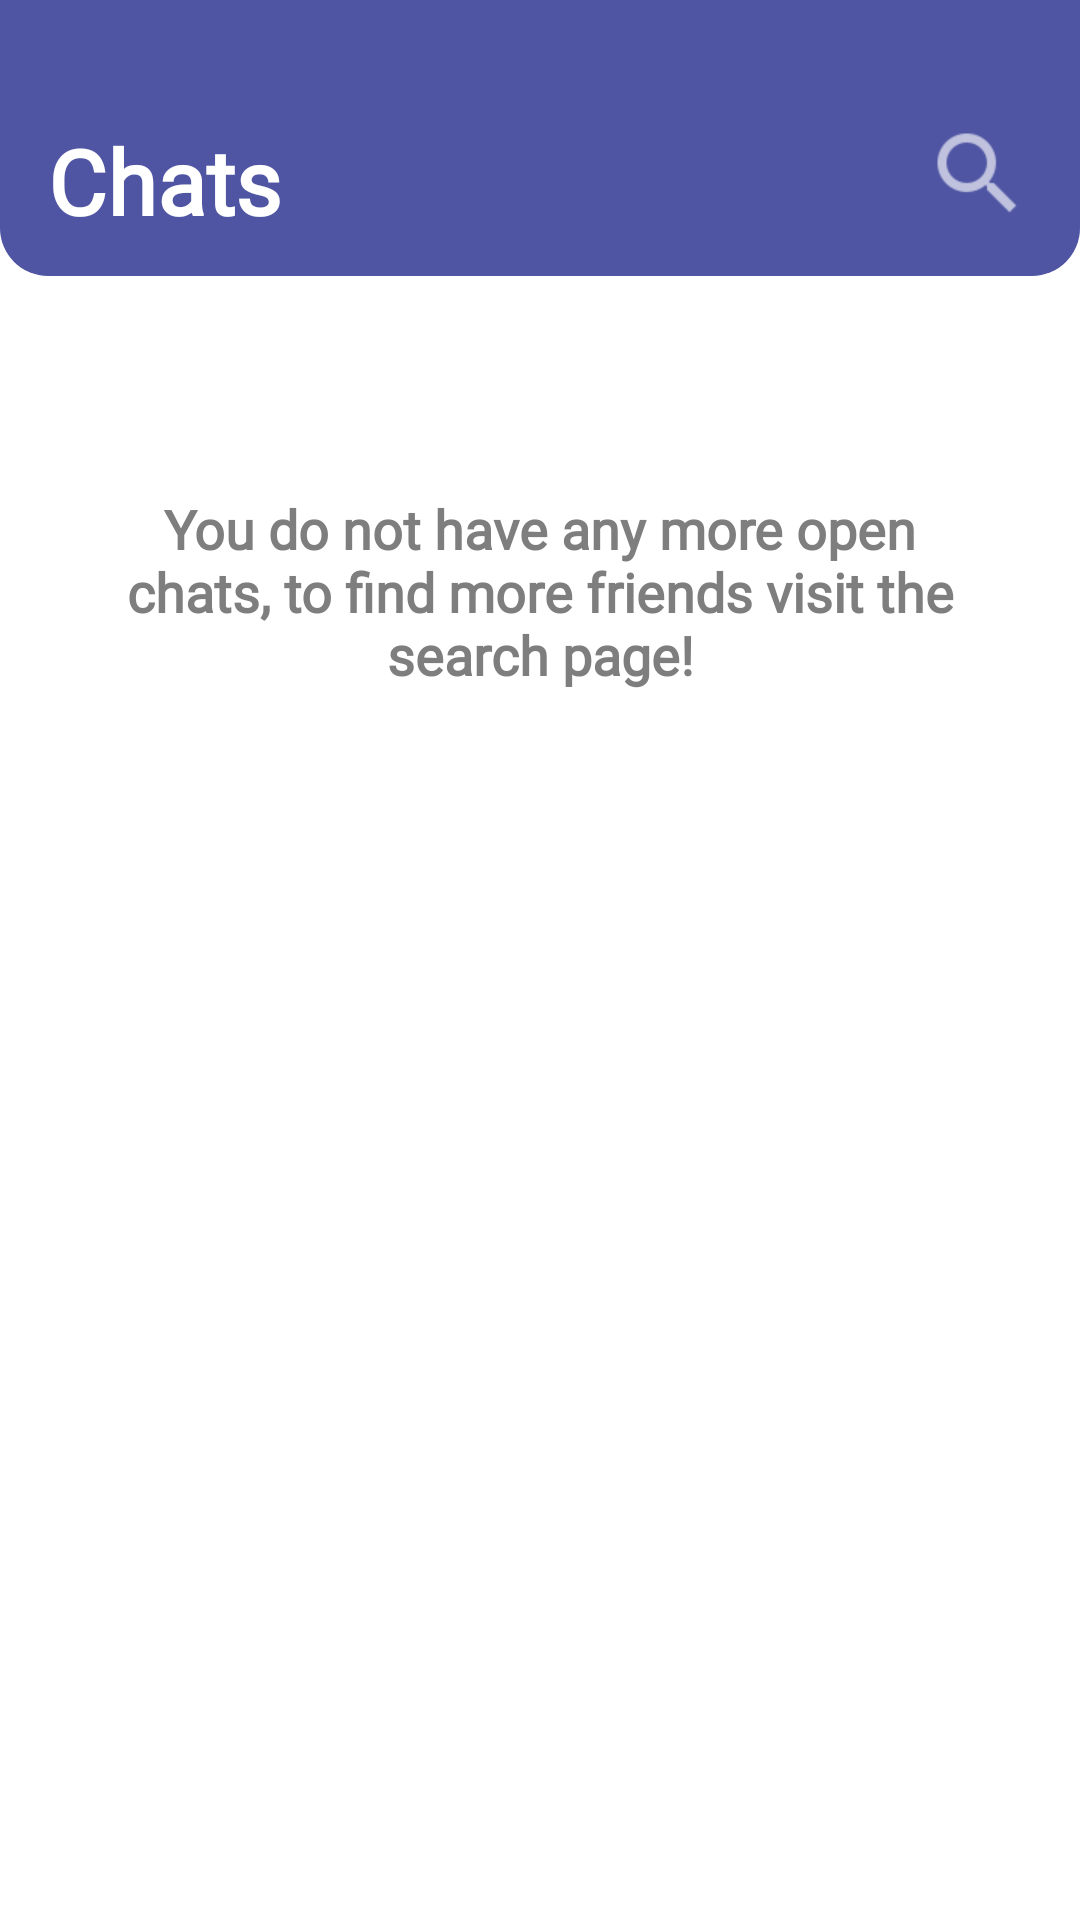

Where to tap for icons on this 1080w x 1920h app screen, as (x,y):
search: (976,172)
